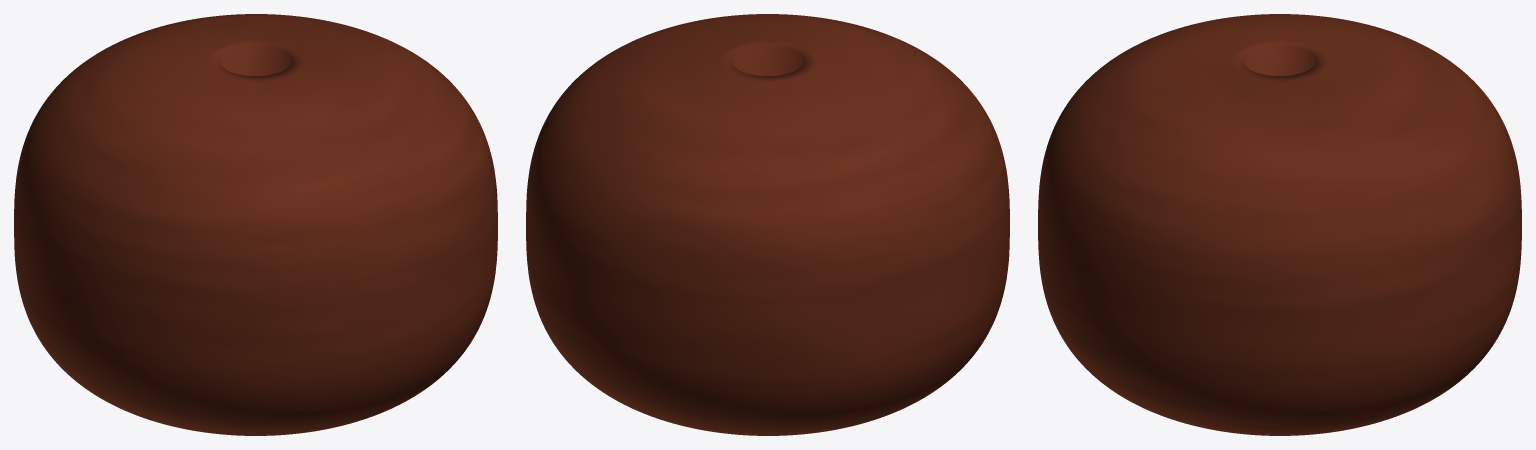
File: dunzi.glb
3 views of the same model, side by side, from view 1: azimuth 30°, elevation 25°; view 2: azimuth 150°, elevation 25°; view 3: azimuth 270°, elevation 25° (orthographic).
Visible parts, largest first — view 1: dunzi; view 2: dunzi; view 3: dunzi.
Part boxes in pixels (x1=…): dunzi: x1=14, y1=14, x2=497, y2=435; dunzi: x1=526, y1=14, x2=1009, y2=435; dunzi: x1=1038, y1=14, x2=1521, y2=435.
Size of the model in its own units: 0.008 by 0.00599 by 0.008.
